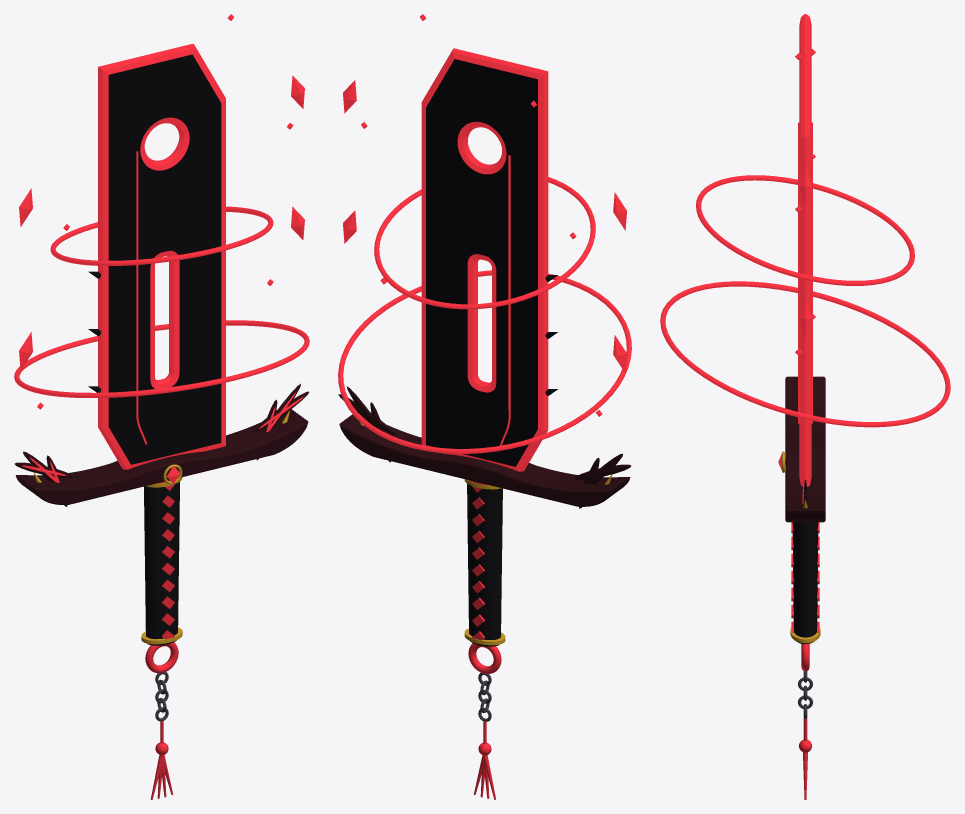
The model's file is 30_Mythic_Abyss_Eclipse.glb.
3 views of the same model, side by side, from view 1: azimuth 30°, elevation 25°; view 2: azimuth 150°, elevation 25°; view 3: azimuth 270°, elevation 25° (orthographic).
Parts seen in each view (by area): view 1: blade_2, guard_wing_0, handle_7, aura_ring_41, aura_ring_42, blade_inlay_48, pommel_ring_29; view 2: blade_2, guard_wing_0, handle_7, aura_ring_41, aura_ring_42, blade_inlay_47, pommel_ring_29; view 3: blade_2, guard_wing_0, aura_ring_41, aura_ring_42, handle_7, blade_inlay_47, blade_inlay_48.
Part boxes in pixels (x1=…): blade_2: x1=98, y1=43, x2=225, y2=469; guard_wing_0: x1=15, y1=409, x2=308, y2=504; handle_7: x1=144, y1=482, x2=179, y2=645; aura_ring_41: x1=14, y1=320, x2=309, y2=397; aura_ring_42: x1=50, y1=206, x2=273, y2=265; blade_inlay_48: x1=136, y1=151, x2=147, y2=444; pommel_ring_29: x1=145, y1=642, x2=178, y2=673; blade_2: x1=421, y1=48, x2=548, y2=471; guard_wing_0: x1=339, y1=414, x2=630, y2=506; handle_7: x1=467, y1=483, x2=502, y2=646; aura_ring_41: x1=338, y1=270, x2=631, y2=453; aura_ring_42: x1=374, y1=177, x2=595, y2=309; blade_inlay_47: x1=499, y1=155, x2=510, y2=445; pommel_ring_29: x1=468, y1=643, x2=501, y2=673; blade_2: x1=799, y1=14, x2=811, y2=486; guard_wing_0: x1=785, y1=376, x2=825, y2=522; aura_ring_41: x1=660, y1=281, x2=950, y2=427; aura_ring_42: x1=696, y1=175, x2=914, y2=285; handle_7: x1=792, y1=522, x2=818, y2=644; blade_inlay_47: x1=811, y1=122, x2=812, y2=423; blade_inlay_48: x1=798, y1=122, x2=799, y2=423.
Size of the model in its own units: 0.5124 by 1.28 by 0.4341.
Materials: 11 (11 with a texture image).
